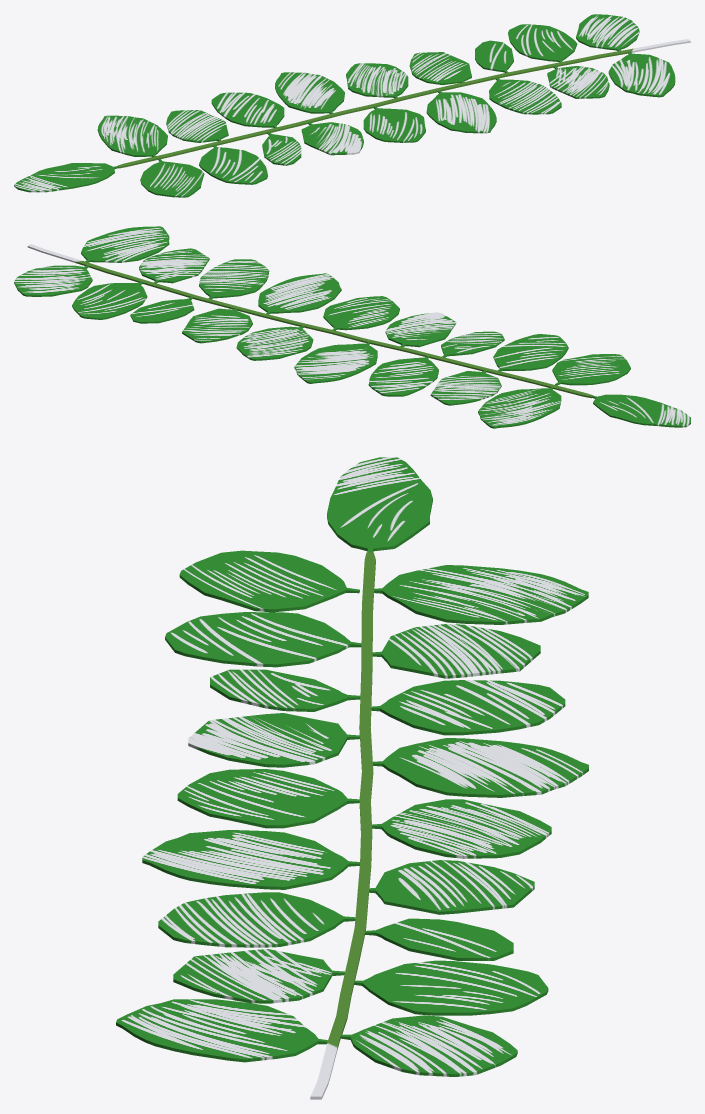
File: long leaf level 1.fbx
The picture shows the model from 3 angles, top to bottom: view 1: azimuth 30°, elevation 25°; view 2: azimuth 150°, elevation 25°; view 3: azimuth 270°, elevation 25°; orthographic projection. The views are drawn at different scales.
Parts seen in each view (by area): view 1: Stem, Leaf4_01, Leaf4_03, Leaf4_04, Leaf4_02, TopLeaf, Leaf5_04, Leaf5_01, Leaf5_03, Leaf5_02, Leaf3_03, Leaf3_04 (+8 smaller); view 2: Stem, Leaf4_04, Leaf4_02, Leaf4_01, Leaf4_03, TopLeaf, Leaf5_01, Leaf5_03, Leaf5_04, Leaf5_02, Leaf3_02, Leaf3_03 (+8 smaller); view 3: Leaf4_03, Leaf4_01, Leaf4_02, Leaf4_04, Leaf5_04, Leaf5_01, Leaf5_02, Leaf5_03, TopLeaf, Leaf3_04, Leaf3_01, Leaf3_03 (+8 smaller).
Boxes of the visible parts, x1,y1,x2,y2 form: Stem: (117,39,690,168); Leaf4_01: (275,72,344,113); Leaf4_03: (426,90,496,133); Leaf4_04: (608,52,675,97); Leaf4_02: (97,115,167,156); TopLeaf: (14,163,118,192); Leaf5_04: (489,78,561,114); Leaf5_01: (211,92,284,127); Leaf5_03: (199,145,267,184); Leaf5_02: (508,24,577,62); Leaf3_03: (140,159,204,197); Leaf3_04: (363,106,425,142); Stem: (27,244,593,398); Leaf4_04: (81,226,169,262); Leaf4_02: (478,387,561,428); Leaf4_01: (294,342,377,383); Leaf4_03: (258,273,341,314); TopLeaf: (592,394,690,427); Leaf5_01: (368,356,438,396); Leaf5_03: (493,334,568,371); Leaf5_04: (199,259,269,299); Leaf5_02: (72,282,147,319); Leaf3_02: (14,265,92,296); Leaf3_03: (552,354,630,385); Leaf4_03: (142,830,359,889); Leaf4_01: (373,738,588,797); Leaf4_02: (374,565,588,624); Leaf4_04: (116,999,327,1062); Leaf5_04: (158,892,355,947); Leaf5_01: (371,680,565,735); Leaf5_02: (354,960,548,1015); Leaf5_03: (165,612,361,667); TopLeaf: (327,457,432,552); Leaf3_04: (177,769,359,828); Leaf3_01: (372,799,551,858); Leaf3_03: (179,550,359,612).
Size of the model in its own units: 102 by 0.2186 by 31.79.
1 material, 1 textured.
